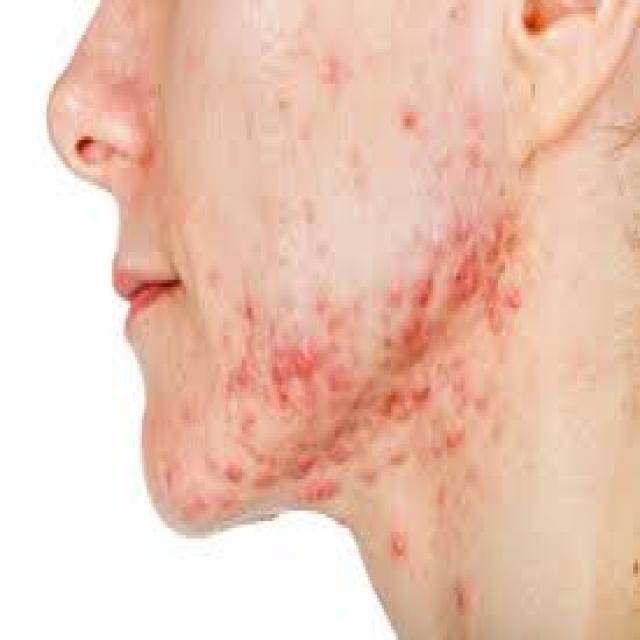Acne: (378, 377, 434, 429), (448, 238, 483, 304), (268, 339, 293, 407), (222, 352, 256, 395), (235, 283, 264, 332), (298, 474, 342, 506), (452, 566, 478, 620), (322, 44, 348, 92), (293, 336, 322, 378), (448, 376, 476, 418), (400, 314, 430, 352), (251, 452, 282, 488), (458, 97, 485, 137), (444, 415, 470, 456), (386, 524, 413, 563), (399, 100, 425, 136), (503, 282, 528, 319), (461, 133, 486, 170), (414, 271, 436, 312), (293, 446, 323, 476), (222, 455, 248, 487), (325, 360, 344, 398), (385, 275, 405, 309)
